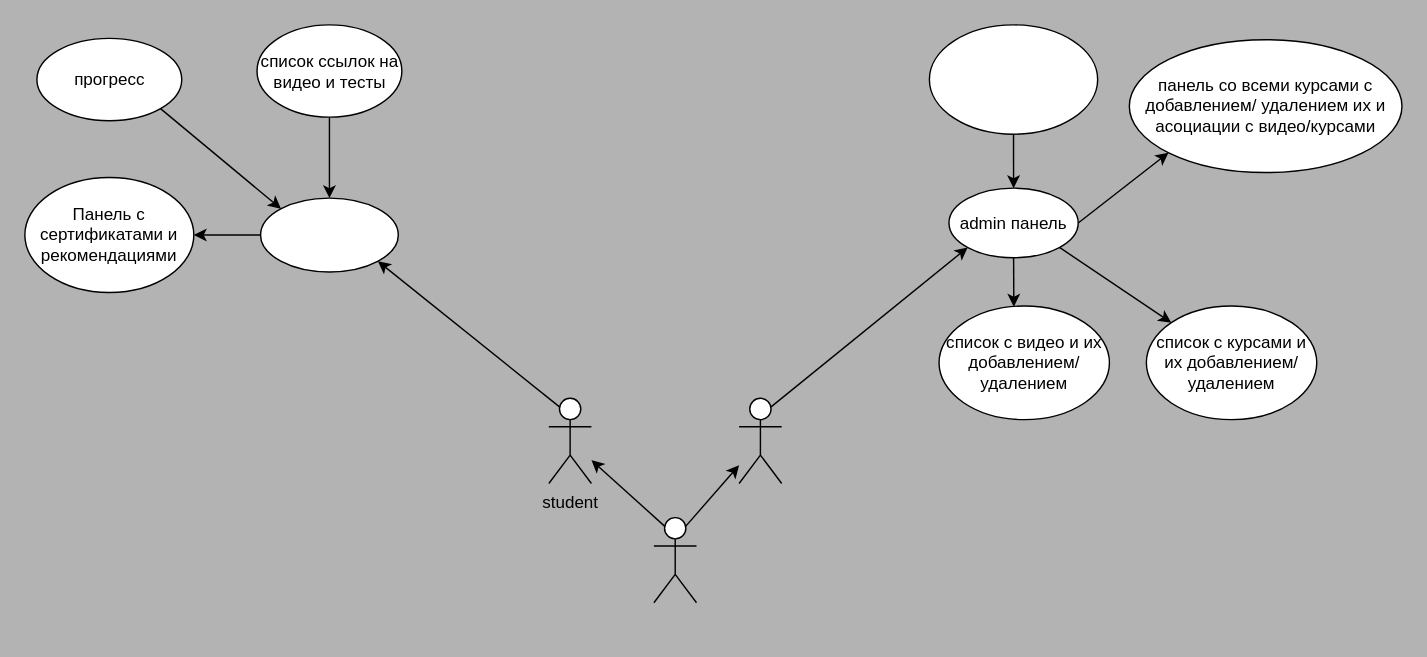
The diagram is 1427 pixels wide and 657 high, and some of its shapes have lost their labels. The shapes that lost their labels are listed below. From the top down, each one's centre as x and y in pixels, then its label:
At [1013,78]: "список пользователей и добавление/удаление их".
At [328,234]: "student панель".
At [760,440]: "admin".
At [674,559]: "Actor".
